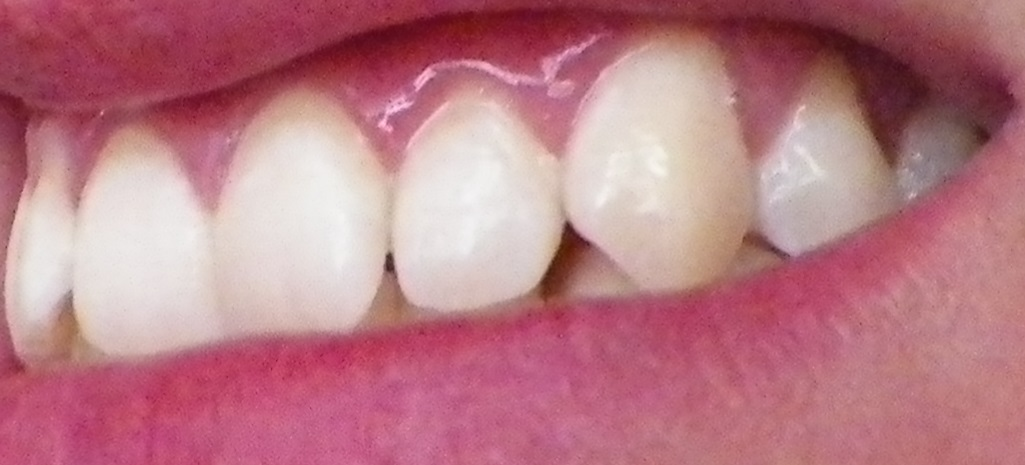boca: (1, 35, 968, 338)
